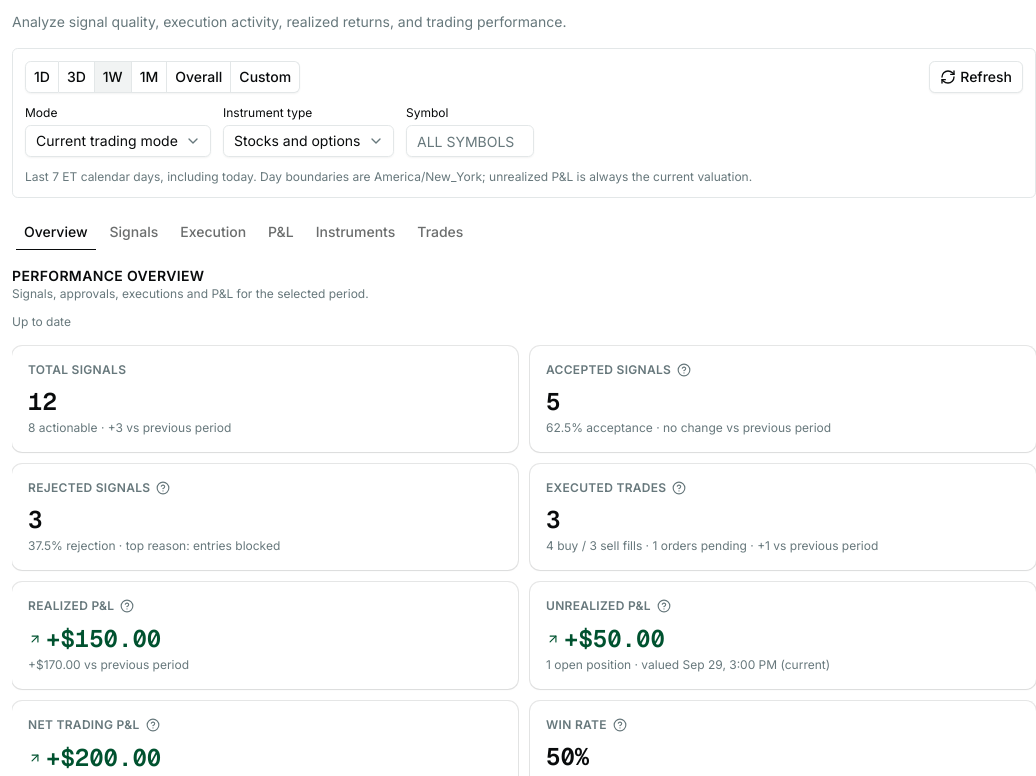
Trading report: periods and filters › does not send an invalid symbol
The image size is (1036, 776).
Expected: the text "Total signals" is shown, x1=28 y1=362 x2=126 y2=377
Type "12" into the field labelled "Symbol".
click(470, 141); type("12")  # box x1=406 y1=125 x2=534 y2=157
Then press Enter
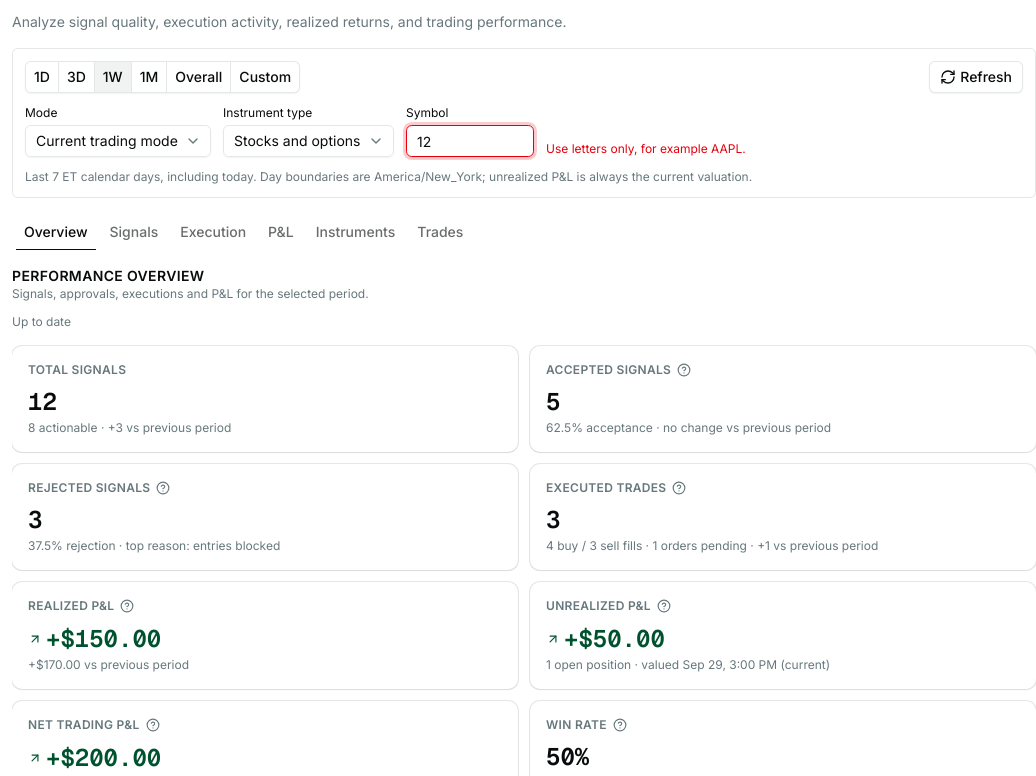
Now the message "Use letters only, for example AAPL." is shown, box x1=546 y1=141 x2=746 y2=157
